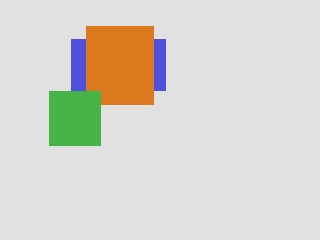square: (86, 26, 153, 104)
tall_box: (71, 39, 165, 90)
wide_box: (49, 91, 100, 145)
